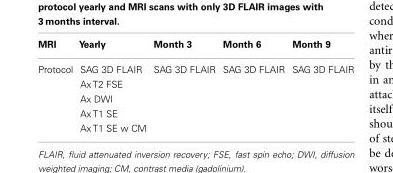table: (37, 37, 353, 133)
table column: (75, 37, 149, 133), (149, 37, 218, 133), (218, 37, 287, 133), (287, 37, 353, 133), (37, 37, 75, 133)
table column header: (37, 37, 353, 56)
table row: (37, 56, 353, 76), (37, 37, 353, 56), (37, 90, 353, 105), (37, 105, 353, 120), (37, 76, 353, 90), (37, 120, 353, 133)
table spanning cell: (37, 56, 75, 133)
